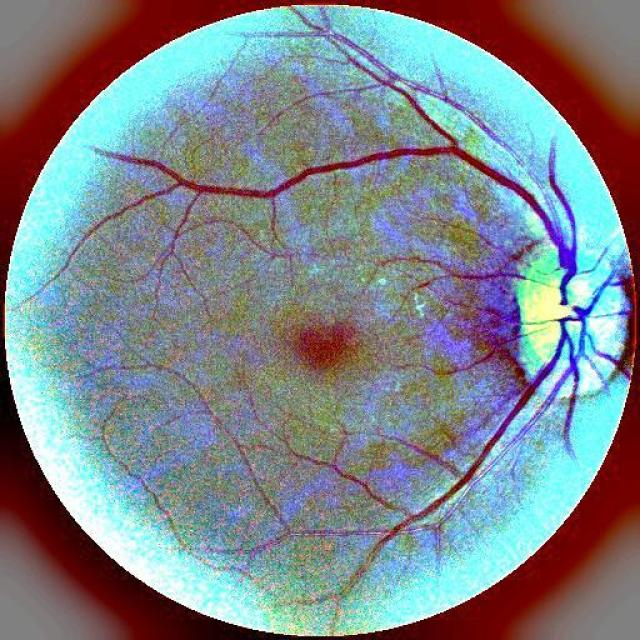Macula: (280, 305, 374, 382)
Nerves: (323, 305, 603, 605), (133, 150, 586, 311)
Optic Disk: (510, 212, 639, 403)
